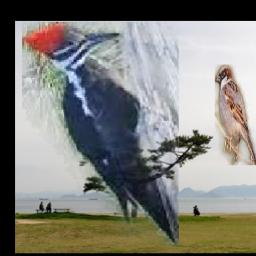Sparrow: (215, 65, 256, 166)
Woodpecker: (22, 22, 179, 247)
